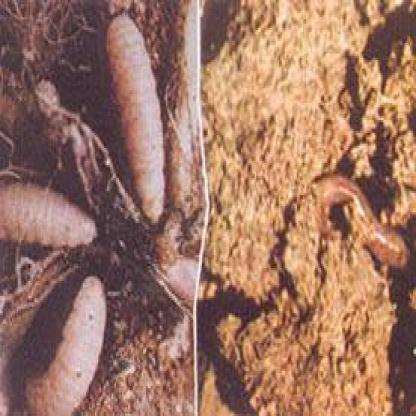whorl-maggot: (106, 8, 170, 230), (23, 272, 108, 416), (0, 180, 100, 254)
